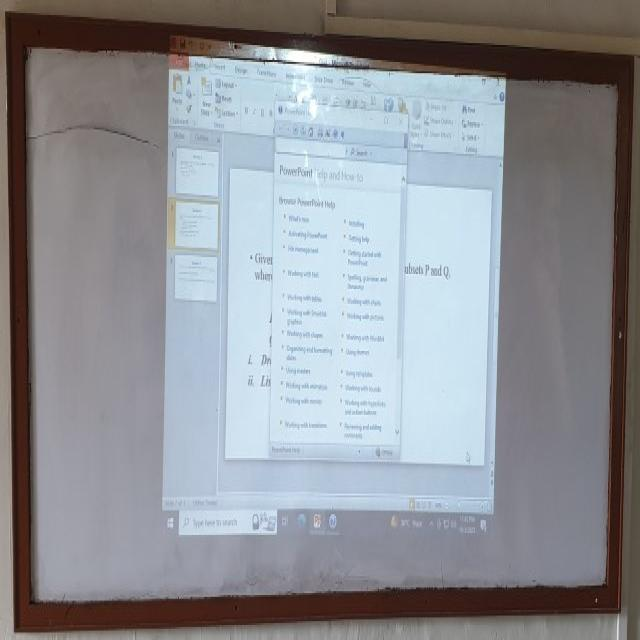Slide: (162, 34, 507, 536)
White-board: (14, 28, 625, 619)
